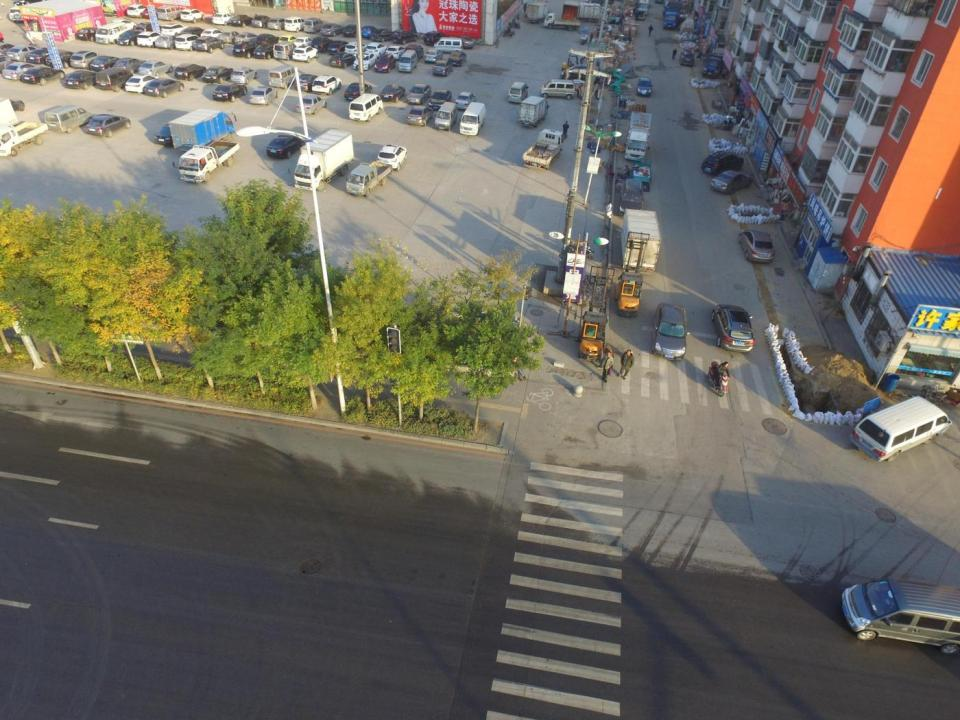car: (710, 304, 755, 353), (651, 303, 688, 359), (738, 228, 777, 265), (710, 169, 752, 194), (266, 133, 305, 158), (88, 114, 132, 136), (702, 152, 745, 174), (376, 144, 408, 171), (144, 79, 184, 98), (23, 67, 62, 85), (214, 83, 247, 103), (295, 94, 326, 114), (405, 106, 432, 128), (67, 71, 98, 90), (270, 65, 296, 87), (346, 79, 372, 101), (404, 82, 430, 104), (152, 126, 178, 148), (3, 61, 33, 80), (178, 62, 206, 82), (312, 75, 340, 94), (110, 56, 141, 72), (48, 49, 74, 68), (229, 66, 256, 84), (200, 65, 232, 80), (372, 54, 396, 74), (250, 87, 278, 104), (197, 34, 222, 53), (5, 44, 31, 62), (428, 87, 450, 108), (173, 32, 196, 52), (129, 75, 156, 92), (140, 60, 172, 74), (90, 56, 118, 72), (380, 84, 404, 102), (432, 58, 454, 77), (294, 46, 320, 62), (330, 51, 354, 68), (383, 45, 407, 62), (452, 91, 474, 109), (73, 52, 96, 69), (637, 76, 653, 99), (134, 31, 158, 46), (255, 42, 275, 60), (117, 30, 139, 46), (236, 40, 256, 57), (27, 48, 51, 62), (423, 30, 442, 47), (297, 76, 317, 92), (355, 53, 373, 70), (393, 30, 416, 43), (182, 9, 203, 23), (324, 41, 346, 54), (201, 27, 221, 41), (450, 49, 466, 66), (426, 47, 443, 63), (342, 23, 359, 39), (157, 35, 176, 49), (682, 50, 696, 69), (210, 13, 232, 25), (231, 15, 251, 28), (126, 4, 146, 17), (458, 34, 473, 51), (311, 38, 328, 53), (112, 18, 134, 29), (252, 14, 268, 29), (359, 22, 373, 39), (322, 25, 340, 38), (180, 26, 203, 36), (76, 28, 95, 40), (367, 42, 384, 55), (403, 45, 423, 56), (347, 42, 365, 54), (372, 29, 391, 40), (136, 21, 155, 32), (268, 18, 284, 30), (142, 6, 156, 19), (280, 34, 297, 44), (296, 36, 312, 46)
truck: (293, 130, 354, 192), (172, 140, 239, 184), (171, 110, 236, 150), (522, 130, 564, 170), (0, 121, 49, 155), (347, 162, 393, 195), (626, 110, 651, 160), (520, 98, 548, 127), (576, 4, 624, 19), (545, 13, 580, 33), (524, 2, 556, 19), (663, 1, 679, 34), (707, 53, 723, 82)
van: (844, 579, 959, 655), (852, 394, 951, 464), (620, 208, 657, 272), (43, 103, 91, 135), (348, 93, 382, 123), (459, 101, 487, 136), (618, 180, 643, 216), (95, 68, 131, 92), (540, 78, 576, 100), (94, 21, 126, 43), (433, 103, 457, 132), (508, 83, 530, 104), (398, 50, 418, 73), (272, 41, 294, 60), (436, 36, 460, 52), (283, 16, 305, 33), (158, 4, 179, 20), (304, 16, 324, 32), (9, 6, 26, 21), (636, 0, 649, 16)
